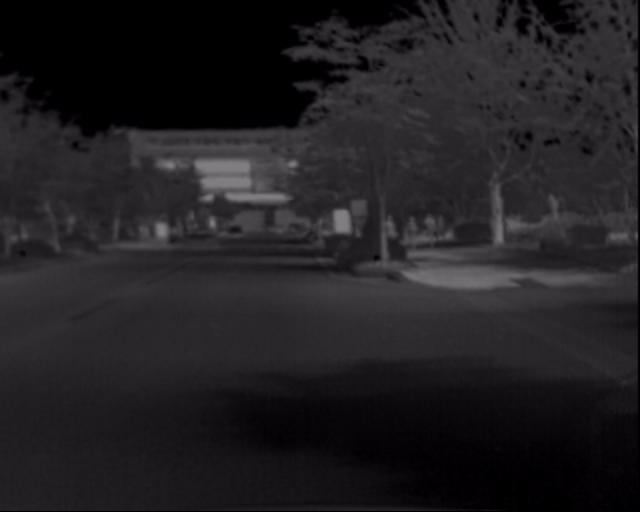person: (419, 205, 439, 255), (379, 211, 401, 255), (399, 210, 419, 256)
